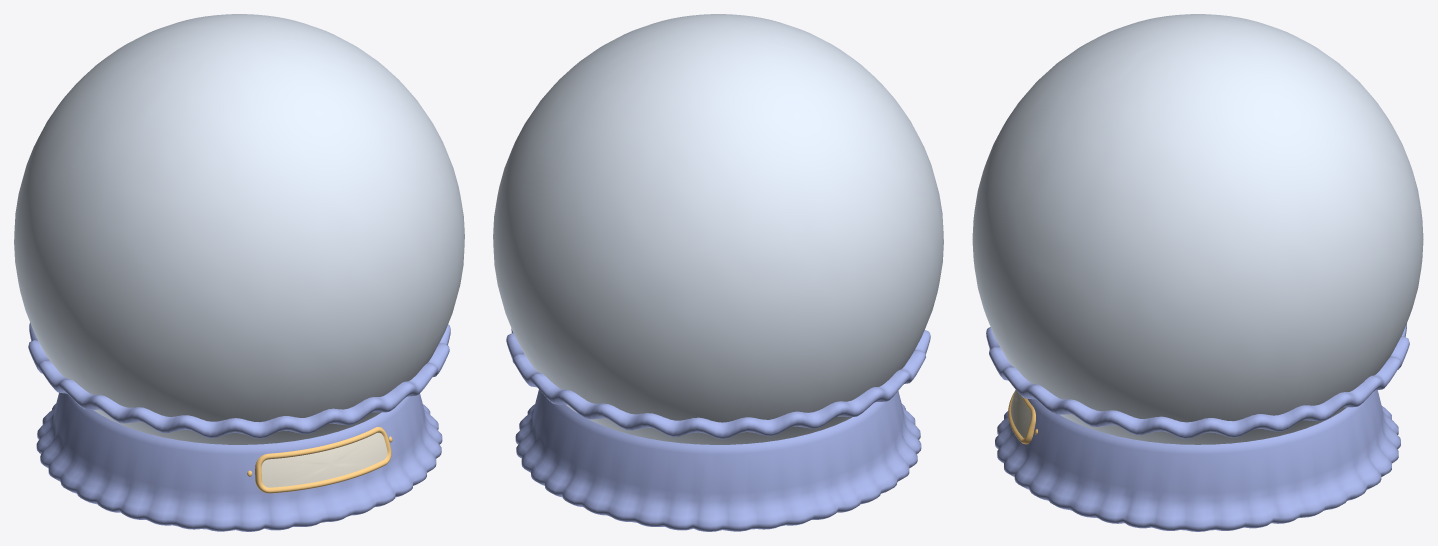
The model's file is birthday.glb.
The picture shows the model from 3 angles, left to right: view 1: azimuth 30°, elevation 25°; view 2: azimuth 150°, elevation 25°; view 3: azimuth 270°, elevation 25°; orthographic projection.
Parts seen in each view (by area): view 1: w_Glass_Dome, w_Stand_Body, w_Base_Nameplate, w_Base_NameplateFrame; view 2: w_Glass_Dome, w_Stand_Body; view 3: w_Glass_Dome, w_Stand_Body, w_Base_Nameplate.
Boxes of the visible parts, box(x1,y1,x2,y2) form: w_Glass_Dome: box(14, 14, 464, 444); w_Stand_Body: box(28, 322, 450, 531); w_Base_Nameplate: box(261, 432, 387, 487); w_Base_NameplateFrame: box(247, 427, 392, 493); w_Glass_Dome: box(493, 14, 943, 444); w_Stand_Body: box(506, 328, 930, 531); w_Glass_Dome: box(972, 14, 1423, 444); w_Stand_Body: box(986, 323, 1409, 531); w_Base_Nameplate: box(1011, 390, 1031, 437).
Bounding box in the file's own units: 2.56 × 2.59 × 2.56.
